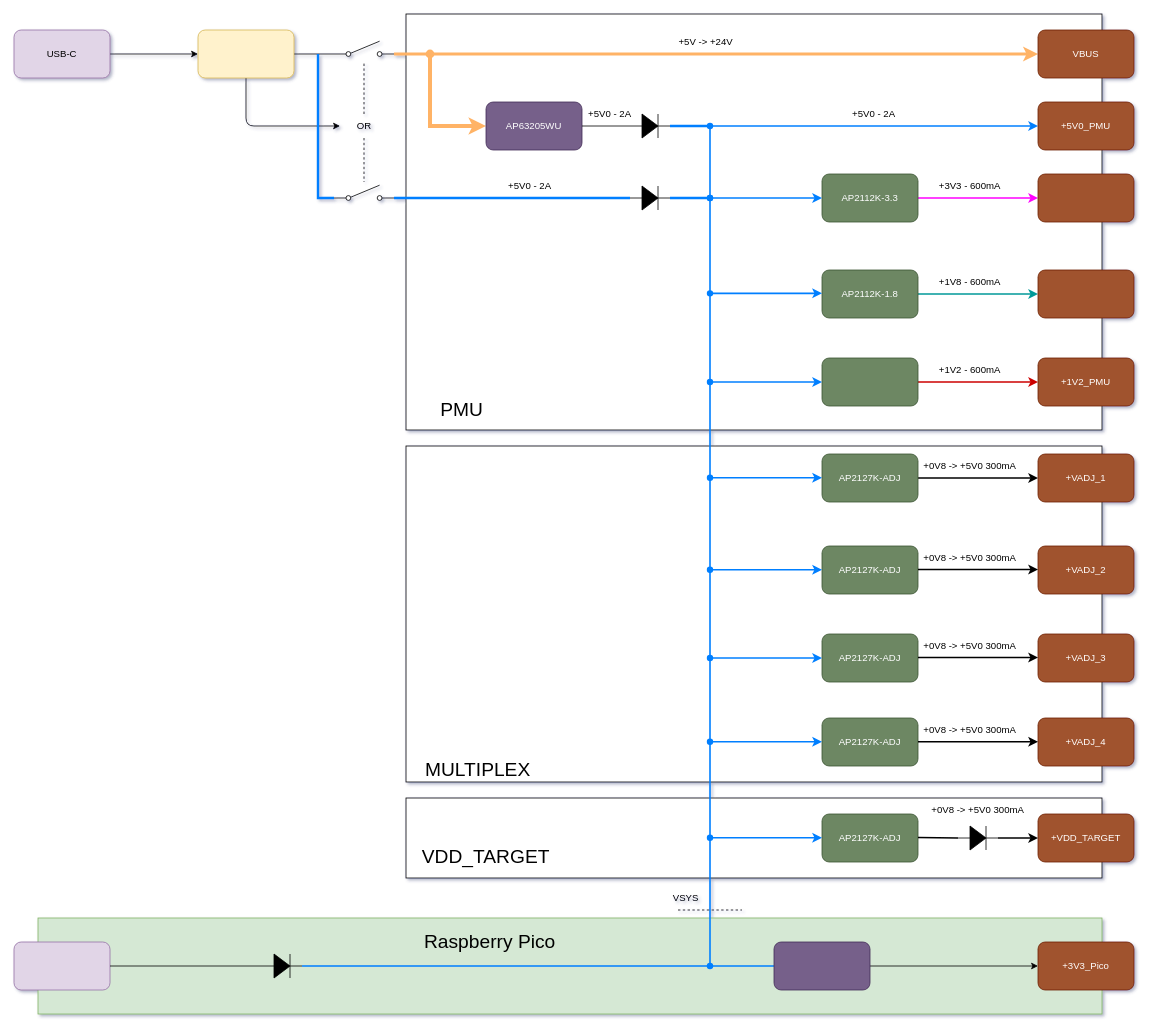
This 1153x1033 diagram has some shape labels left out. The shapes that lost their labels are listed below. From the top down, each one's centre as x and y in pixels, then its label:
At [245,53]: "Sink Controller".
At [1085,197]: "+3V3_PMU".
At [1085,293]: "+1V8_PMU".
At [869,381]: "AP2112K-1.2".
At [61,965]: "Micro USB".
At [821,965]: "RT6150".
